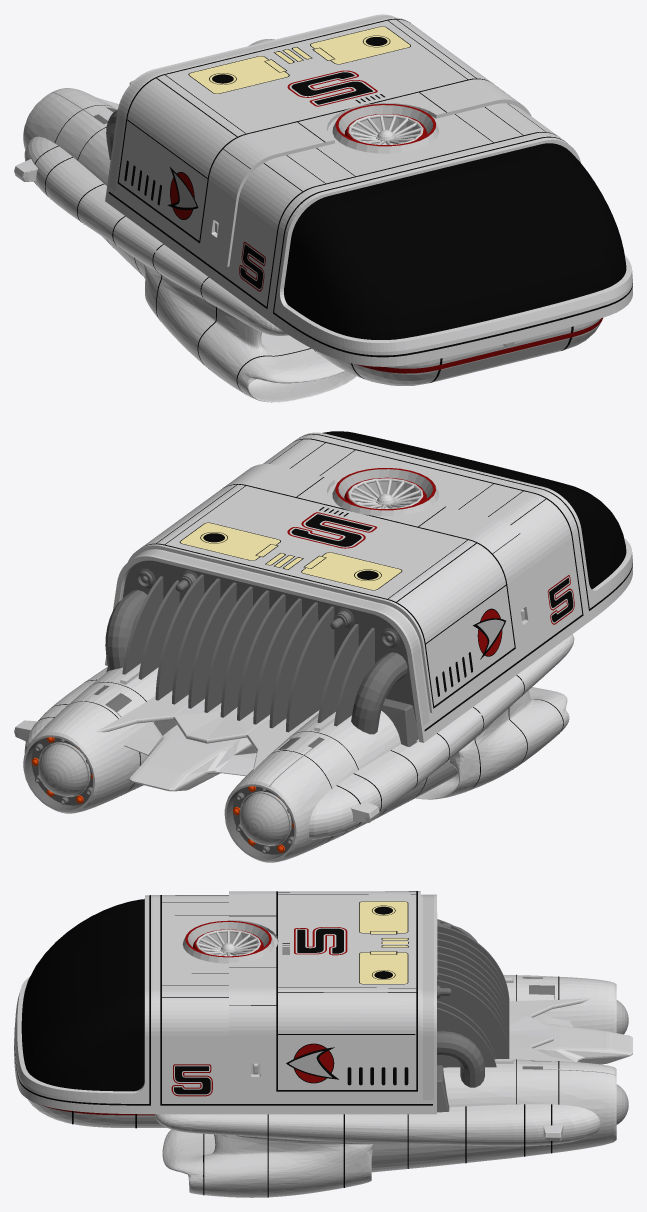
The model's file is SpaceShip3.fbx.
3 renders of one model, top to bottom at view 1: azimuth 30°, elevation 25°; view 2: azimuth 150°, elevation 25°; view 3: azimuth 270°, elevation 25°, orthographic. The views are drawn at different scales.
Parts seen in each view (by area): view 1: White-Dirt, Glass, White-Dir0, Black, Yellow-Dir, Red-Dirty, BlkYllw-Ri, Grey-Dirty, Object02; view 2: White-Dirt, White-Dir0, DarkGrey-D, Black, Grey-Dirty, Glass, Yellow-Dir, BlkYllw-Ri, Red-Dirty, Object02; view 3: White-Dirt, White-Dir0, Glass, DarkGrey-D, Black, Yellow-Dir, BlkYllw-Ri, Red-Dirty, Grey-Dirty, Object02.
Boxes of the visible parts, x1,y1,x2,y2 form: White-Dirt: (105,14,632,366); Glass: (284,143,626,339); White-Dir0: (14,39,601,402); Black: (34,18,632,393); Yellow-Dir: (189,26,410,93); Red-Dirty: (170,70,602,373); BlkYllw-Ri: (109,15,394,190); Grey-Dirty: (173,105,433,207); Object02: (351,117,419,144); White-Dirt: (105,432,632,742); White-Dir0: (15,634,574,862); DarkGrey-D: (25,560,418,859); Black: (38,434,632,842); Grey-Dirty: (38,469,504,846); Glass: (323,431,626,589); Yellow-Dir: (180,523,401,589); BlkYllw-Ri: (120,550,429,725); Red-Dirty: (287,468,574,655); Object02: (351,481,420,508); White-Dirt: (14,891,437,1114); White-Dir0: (27,974,632,1197); Glass: (21,899,144,1091); DarkGrey-D: (135,919,554,1112); Black: (14,891,559,1197); Yellow-Dir: (359,901,407,983); BlkYllw-Ri: (423,894,433,1100); Red-Dirty: (42,920,347,1115); Grey-Dirty: (187,922,628,1124); Object02: (199,932,257,955).
Size of the model in its own units: 150 by 95.87 by 262.
